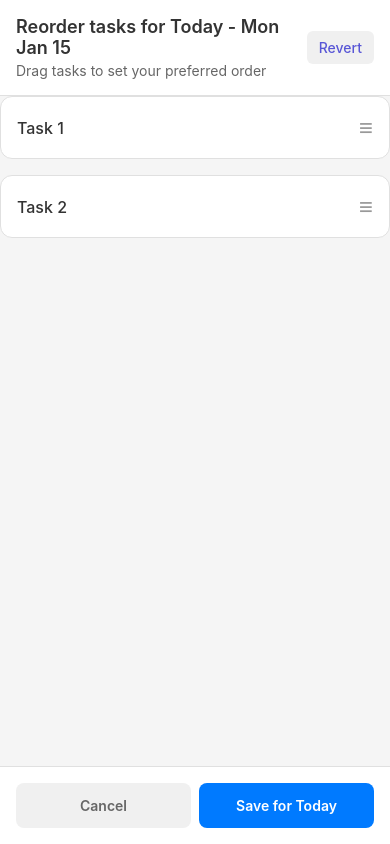
ReorderTasksScreen › shows error when reverting with no permanent order
This screenshot has width=390, height=844.
Click the text "Revert" at (340, 48), box [319, 39, 362, 56]
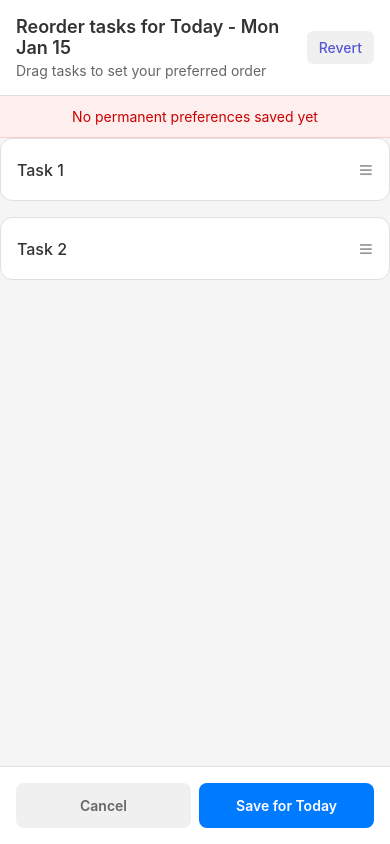
expect the text "No permanent preferences saved yet" is shown: met, box [72, 108, 318, 125]
